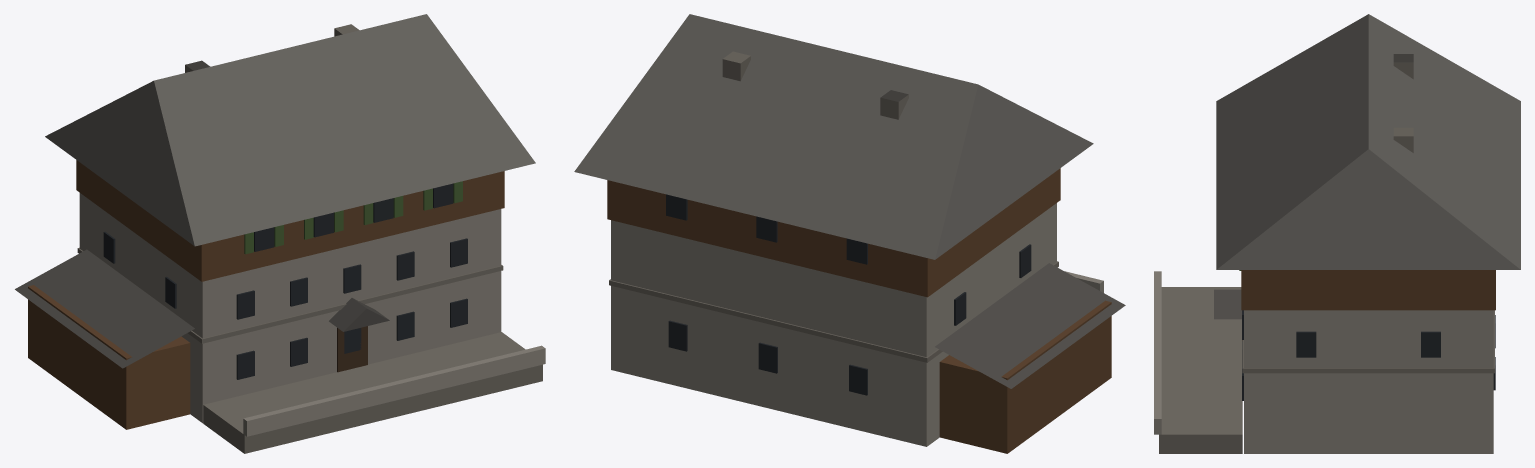
Rendered from mountain_hut_b.glb.
The picture shows the model from 3 angles, left to right: view 1: azimuth 30°, elevation 25°; view 2: azimuth 150°, elevation 25°; view 3: azimuth 270°, elevation 25°; orthographic projection. The views are drawn at different scales.
Visible parts, largest first — view 1: mountain_hut_b; view 2: mountain_hut_b; view 3: mountain_hut_b.
Boxes of the visible parts, bbox=[...] form: mountain_hut_b: bbox=[15, 14, 545, 453]; mountain_hut_b: bbox=[574, 14, 1125, 453]; mountain_hut_b: bbox=[1154, 14, 1520, 453].
Bounding box in the file's own units: 18.4 × 13.2 × 14.7.
